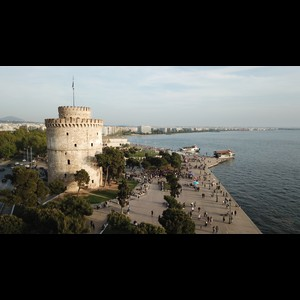White Tower: (42, 79, 106, 192)
